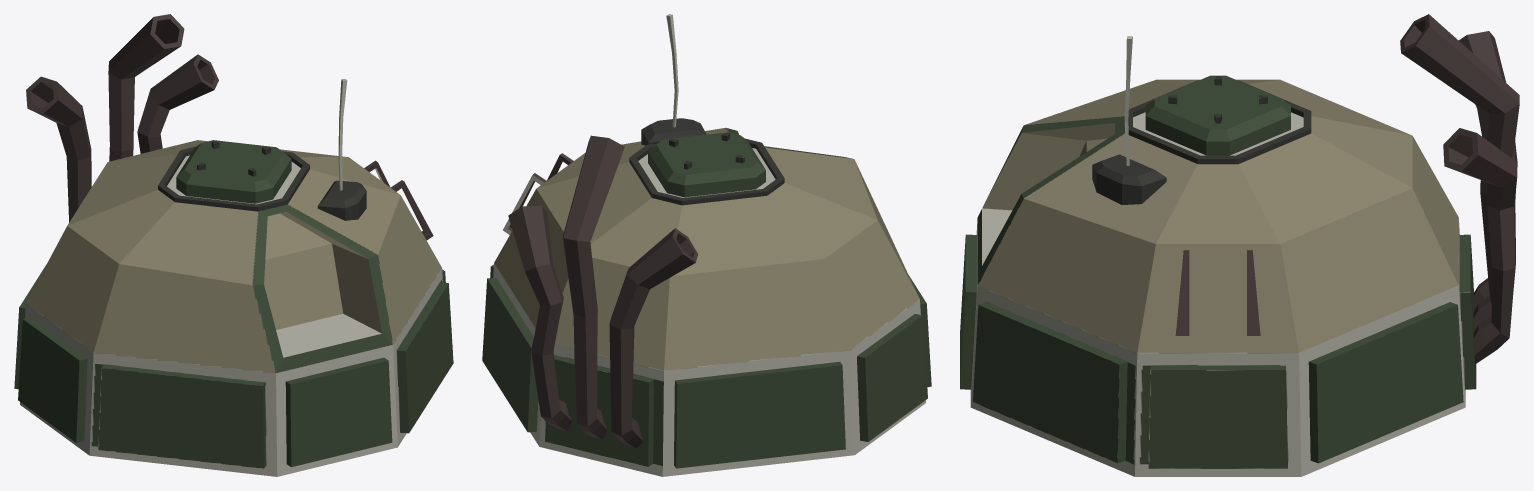
File: 零炮台2.fbx
3 renders of one model, left to right at view 1: azimuth 30°, elevation 25°; view 2: azimuth 150°, elevation 25°; view 3: azimuth 270°, elevation 25°, orthographic. The views are drawn at different scales.
Visible parts, largest first — view 1: 立方体.007; view 2: 立方体.007; view 3: 立方体.007.
Part boxes in pixels (x1,y1,x2,y2): 立方体.007: [14, 14, 453, 476]; 立方体.007: [482, 14, 931, 476]; 立方体.007: [960, 14, 1519, 476].
Bounding box in the file's own units: 212 × 171 × 230.
